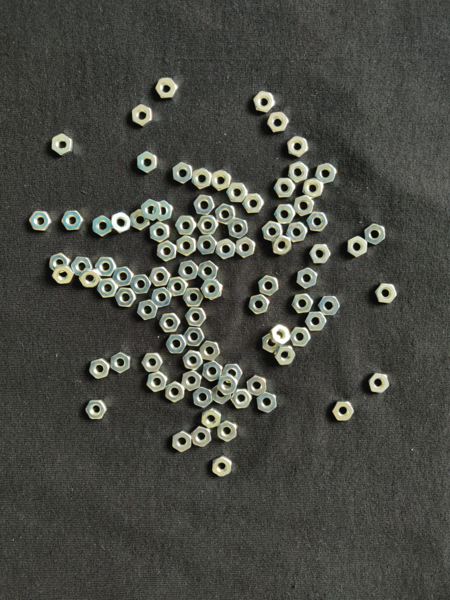nut: (253, 91, 277, 113), (52, 134, 74, 157), (155, 78, 179, 99), (274, 203, 296, 225), (365, 223, 386, 246), (112, 266, 135, 287), (132, 105, 153, 127), (137, 151, 158, 173), (288, 136, 309, 158), (289, 161, 310, 183), (315, 163, 337, 184), (141, 199, 162, 221), (215, 203, 236, 225), (175, 215, 197, 236), (270, 324, 291, 346), (191, 426, 212, 448), (242, 194, 265, 214), (274, 178, 297, 198), (306, 212, 329, 232), (318, 296, 341, 316), (85, 399, 108, 419), (303, 178, 324, 199), (294, 195, 315, 216), (287, 222, 308, 243), (157, 241, 178, 262), (235, 237, 256, 258), (149, 266, 170, 287), (137, 300, 158, 321), (297, 268, 318, 289), (369, 373, 390, 394), (89, 358, 110, 379), (267, 112, 289, 132), (211, 169, 231, 191), (262, 221, 284, 241), (272, 234, 292, 256), (30, 211, 52, 231), (92, 215, 112, 237), (111, 212, 131, 234), (130, 209, 150, 231), (153, 200, 173, 222), (198, 215, 220, 235), (216, 238, 236, 260), (348, 236, 368, 258), (115, 288, 137, 308), (167, 277, 189, 297), (375, 283, 397, 303), (292, 294, 314, 314), (333, 401, 355, 421), (111, 352, 131, 374), (146, 372, 168, 392), (231, 389, 253, 409), (212, 456, 232, 478), (52, 265, 75, 284), (192, 168, 212, 189), (227, 182, 248, 202), (194, 195, 215, 215), (228, 218, 248, 239), (310, 244, 331, 264), (49, 253, 70, 273), (97, 278, 118, 298), (152, 287, 172, 308), (160, 313, 181, 333), (290, 327, 311, 347), (200, 341, 221, 361), (165, 381, 185, 402), (203, 361, 223, 382), (182, 370, 202, 391), (193, 387, 213, 408), (218, 375, 238, 396), (247, 375, 267, 396), (257, 392, 277, 413), (201, 409, 222, 429), (217, 421, 237, 442), (173, 162, 192, 184), (62, 211, 84, 230), (196, 236, 218, 255), (71, 257, 93, 276), (79, 269, 101, 288), (130, 275, 152, 294), (201, 279, 223, 298), (183, 327, 205, 346), (305, 312, 327, 331), (221, 364, 243, 383), (178, 261, 198, 281), (259, 276, 279, 296), (184, 350, 204, 370), (212, 384, 232, 404), (96, 258, 117, 277), (199, 260, 218, 281), (166, 335, 187, 354), (249, 295, 270, 314), (275, 346, 296, 365), (142, 353, 163, 372), (173, 431, 192, 452), (150, 222, 169, 242), (177, 236, 196, 256), (183, 289, 204, 307), (186, 308, 207, 326), (263, 334, 280, 353)
